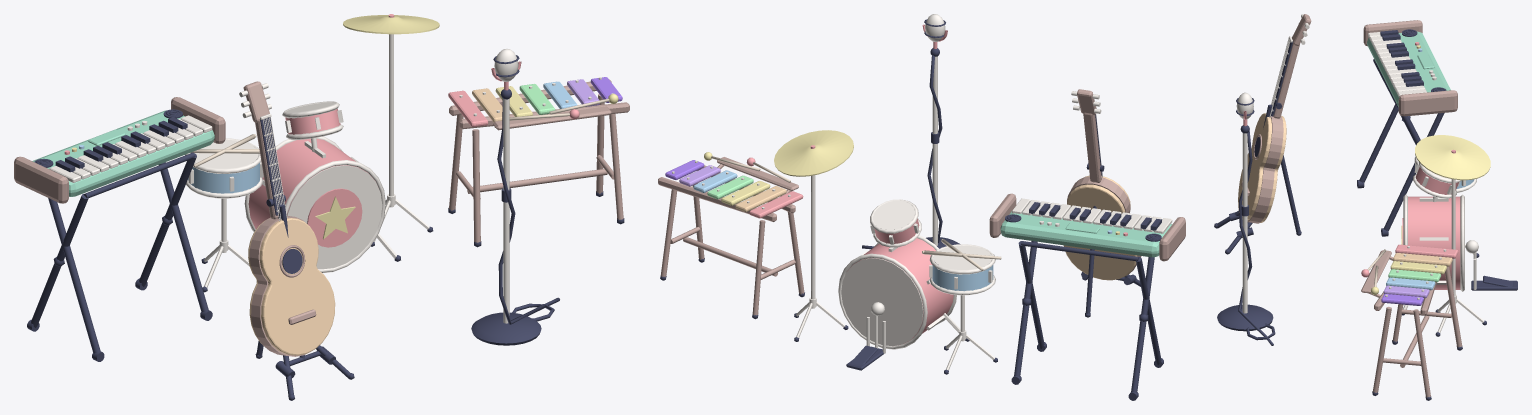
The model's file is banda-retro.glb.
3 renders of one model, left to right at view 1: azimuth 30°, elevation 25°; view 2: azimuth 150°, elevation 25°; view 3: azimuth 270°, elevation 25°, orthographic. The views are drawn at different scales.
Parts seen in each view (by area): view 1: bateria, teclado, violao, xilofone, microfone; view 2: bateria, teclado, xilofone, violao, microfone; view 3: bateria, teclado, xilofone, violao, microfone.
Part boxes in pixels (x1,y1,x2,y2): bateria: (185,14,439,292); teclado: (14,97,225,361); violao: (239,81,354,400); xilofone: (448,77,629,247); microfone: (471,49,559,345); bateria: (774,130,1001,374); teclado: (989,193,1185,400); xilofone: (658,152,804,319); violao: (1063,89,1141,317); microfone: (862,14,960,249); bateria: (1401,135,1517,336); teclado: (1357,20,1457,236); xilofone: (1361,244,1462,400); violao: (1214,14,1311,254); microfone: (1217,92,1275,345).
Size of the model in its own units: 2.86 by 1.28 by 1.56.
